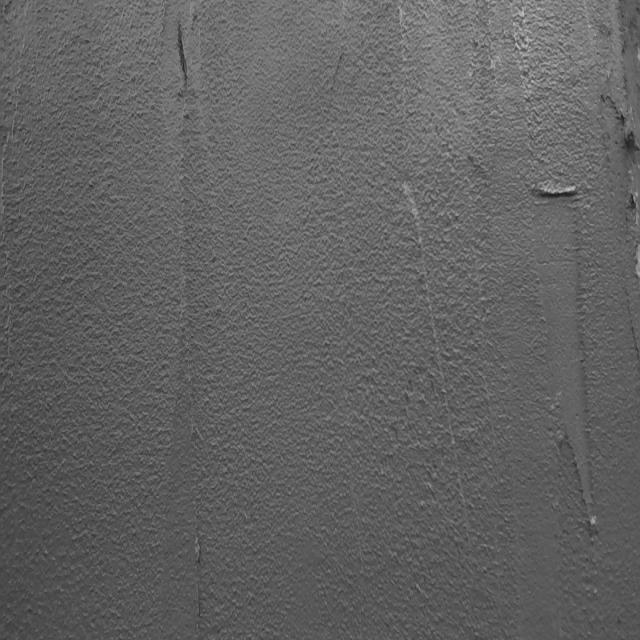trowels marks: (172, 128, 206, 576)
